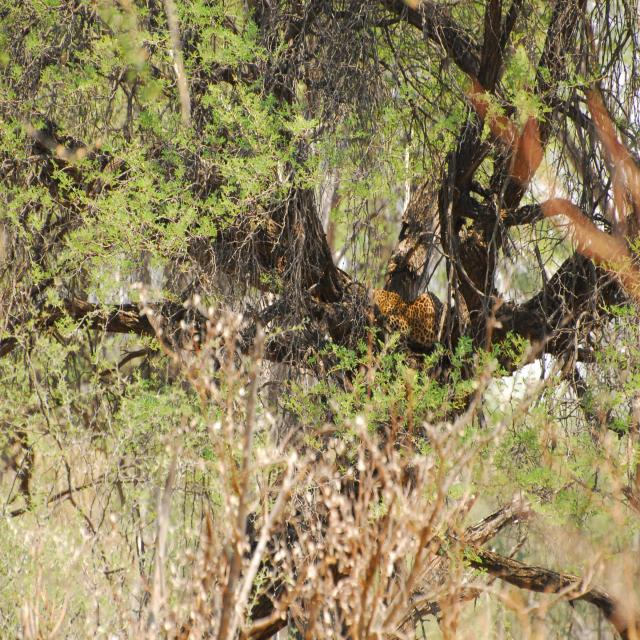Leopard: (358, 277, 455, 366)
